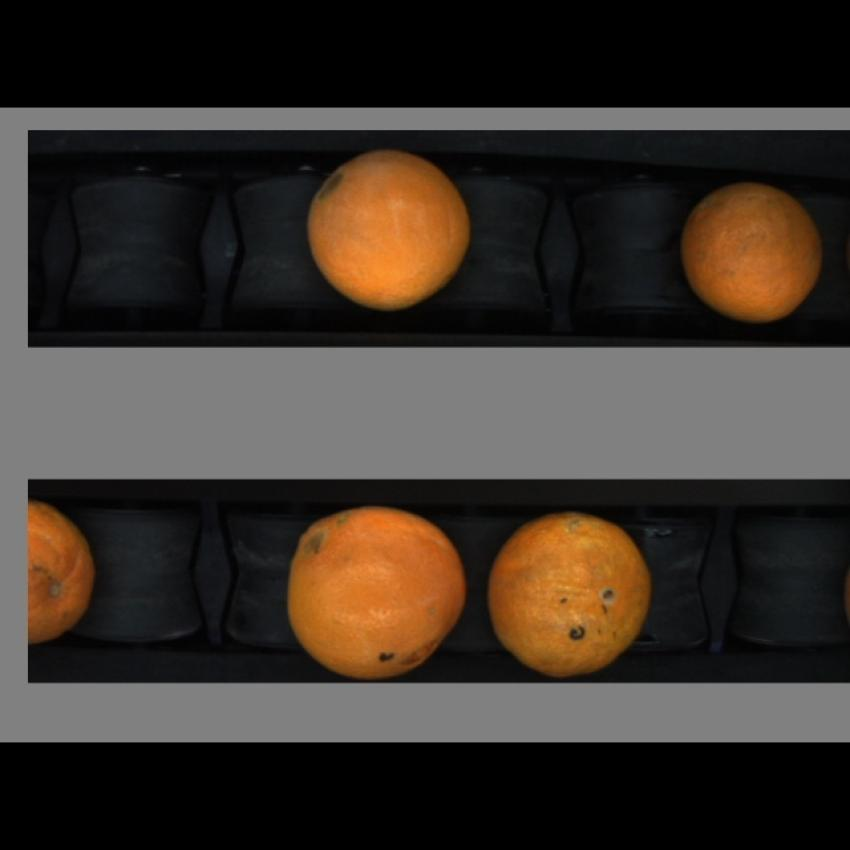Mal estado: (278, 496, 472, 679), (483, 499, 657, 687), (298, 146, 482, 313), (679, 166, 828, 327), (29, 489, 101, 653)
